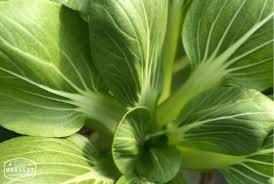Healthy-Pechay: (14, 7, 266, 171)
